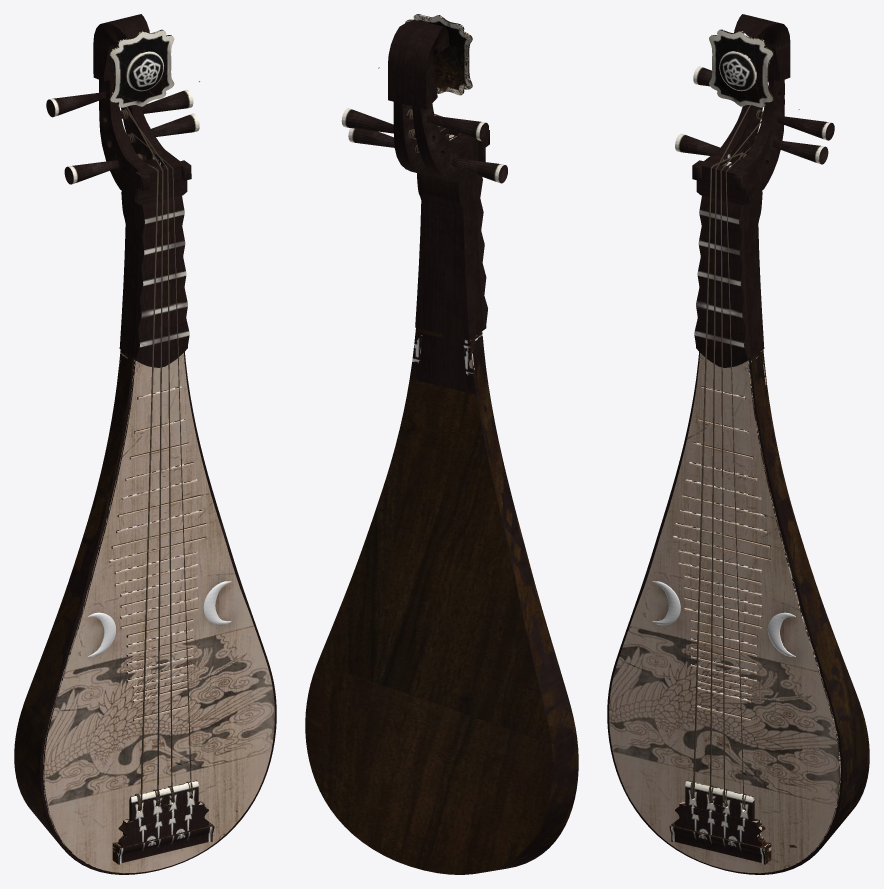
File: flute.glb
3 renders of one model, left to right at view 1: azimuth 30°, elevation 25°; view 2: azimuth 150°, elevation 25°; view 3: azimuth 330°, elevation 25°, orthographic. The views are drawn at different scales.
Visible parts, largest first — view 1: Material2_10.005; view 2: Material2_10.005; view 3: Material2_10.005.
Boxes of the visible parts, bbox=[...] form: Material2_10.005: bbox=[14, 14, 276, 874]; Material2_10.005: bbox=[305, 14, 578, 874]; Material2_10.005: bbox=[607, 14, 869, 874].
Bounding box in the file's own units: 16.97 × 56.62 × 6.89.
4 materials, 3 textured.
